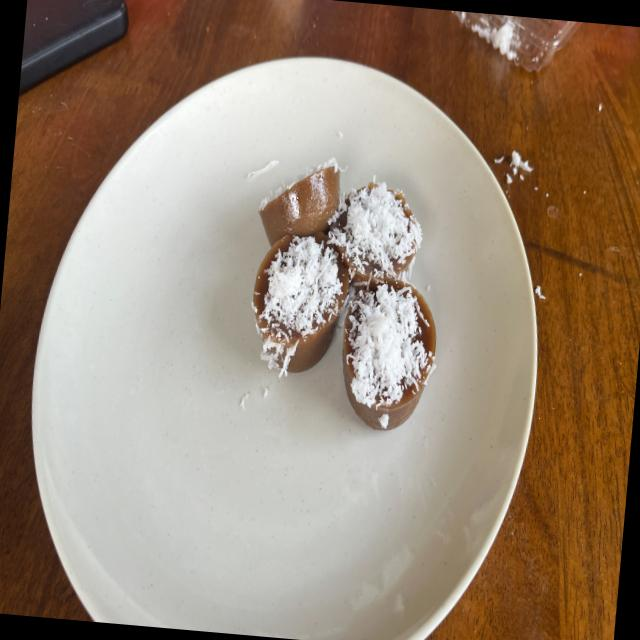Kuih lompang: (342, 280, 436, 430), (252, 230, 349, 375), (327, 182, 422, 286), (259, 165, 340, 245)
